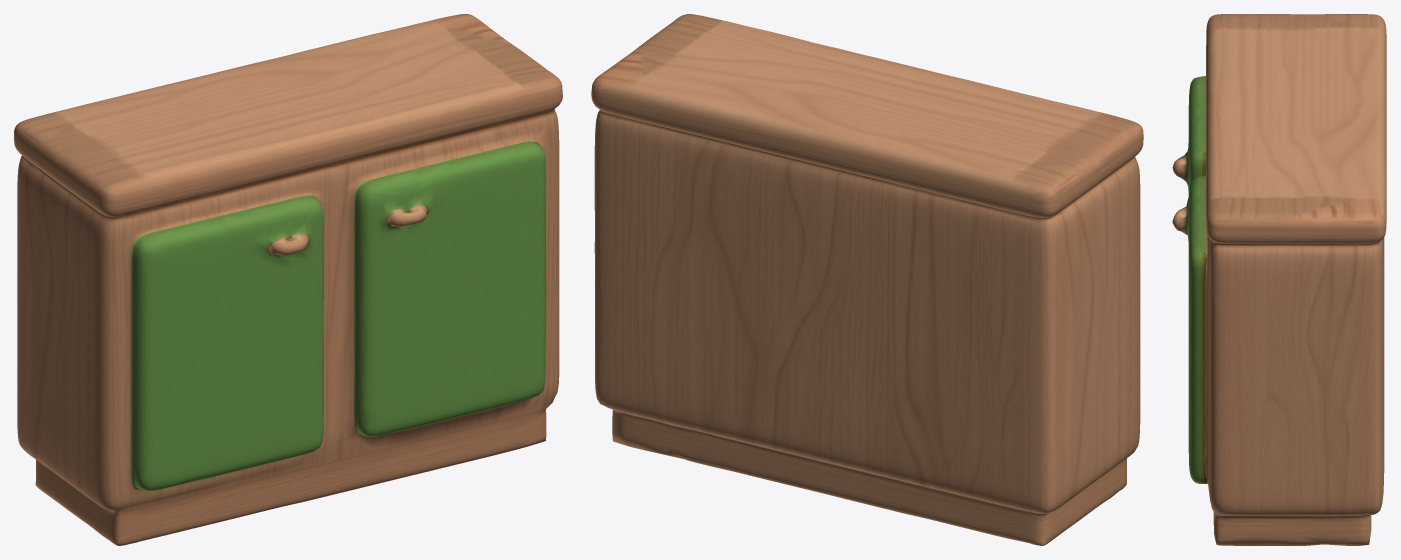
The model's file is Wooden_two_door_toydresser.glb.
3 renders of one model, left to right at view 1: azimuth 30°, elevation 25°; view 2: azimuth 150°, elevation 25°; view 3: azimuth 270°, elevation 25°, orthographic. The views are drawn at different scales.
Bounding box in the file's own units: 1.91 × 1.45 × 0.8331.
1 material, 1 textured.
